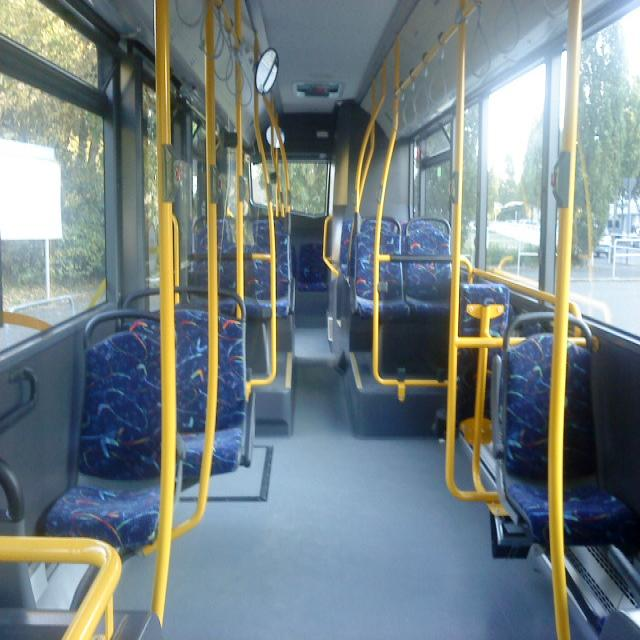empty-seat-frontal: (43, 312, 177, 553), (496, 313, 628, 550), (349, 218, 409, 322), (402, 218, 452, 324)
